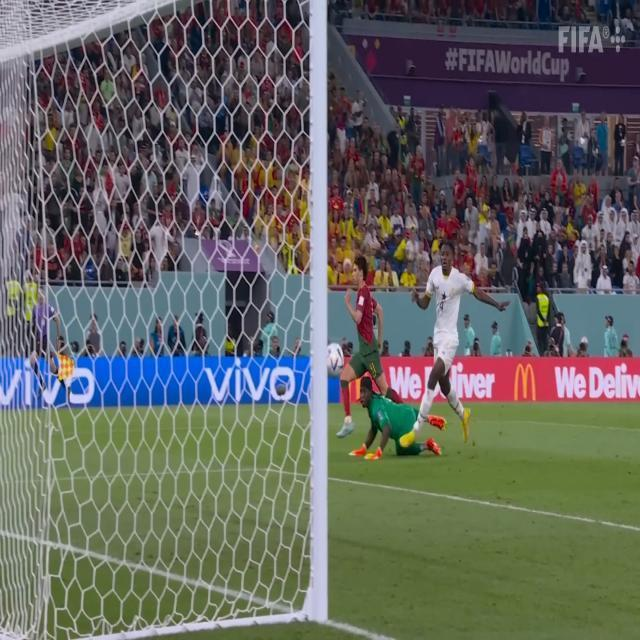football: (325, 346, 356, 376)
